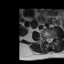CCS_normal: (48, 35, 50, 45)
LFS_normal: (52, 34, 55, 41)
LLS_normal: (50, 35, 52, 43)
RFS_normal: (44, 35, 46, 41)
RLS_normal: (46, 35, 48, 43)
